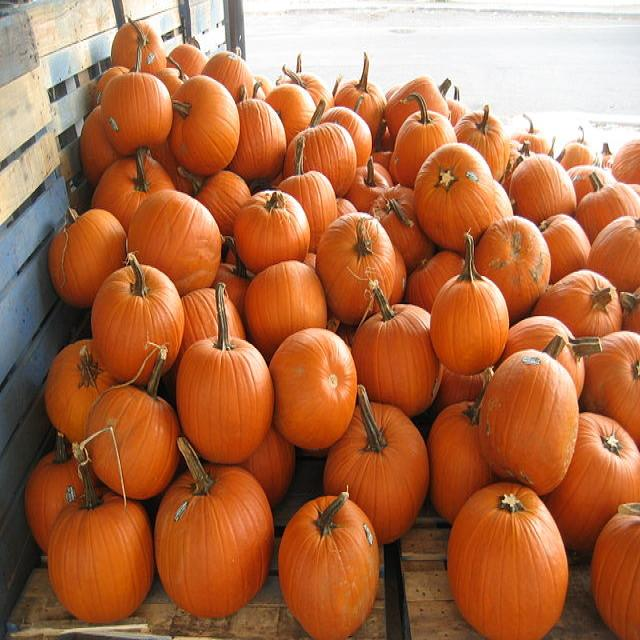pumpkin: (155, 437, 274, 617), (48, 443, 154, 623), (449, 482, 568, 638), (176, 283, 274, 463), (324, 385, 429, 543), (479, 335, 579, 494), (84, 345, 179, 499), (279, 492, 379, 638), (544, 413, 640, 551), (91, 253, 184, 384), (351, 282, 441, 416), (430, 233, 509, 375), (269, 328, 358, 449), (415, 143, 512, 252), (429, 367, 496, 522), (129, 190, 221, 296), (316, 212, 395, 324), (415, 143, 492, 252), (244, 260, 326, 361), (475, 215, 551, 322), (501, 317, 599, 396), (49, 208, 126, 308), (169, 75, 240, 176), (45, 340, 115, 442), (25, 432, 84, 552), (91, 148, 175, 232), (284, 100, 356, 197), (581, 332, 640, 448), (279, 135, 338, 251), (591, 503, 640, 638), (234, 190, 310, 272), (390, 93, 456, 186), (101, 72, 172, 155), (532, 272, 622, 337), (370, 185, 435, 272), (230, 85, 285, 180), (178, 168, 251, 236), (509, 153, 576, 224), (576, 172, 640, 242), (240, 427, 295, 508), (335, 52, 386, 138), (384, 77, 451, 139), (455, 105, 510, 180), (588, 217, 640, 292), (321, 95, 372, 166), (405, 250, 462, 311), (540, 215, 591, 282), (80, 105, 121, 186), (176, 288, 218, 364), (215, 237, 254, 318), (265, 83, 316, 142), (111, 20, 166, 74), (202, 52, 252, 102), (432, 365, 485, 412), (346, 158, 389, 212), (151, 140, 192, 194), (282, 66, 334, 108), (215, 262, 251, 319), (568, 165, 615, 202), (556, 127, 595, 169), (511, 113, 549, 153), (500, 142, 531, 191), (611, 138, 640, 184), (95, 65, 129, 104), (156, 57, 189, 96), (169, 43, 208, 76), (389, 245, 408, 304), (224, 293, 245, 339), (446, 87, 468, 126), (621, 288, 640, 332), (254, 75, 274, 99), (374, 164, 392, 186), (337, 198, 358, 216), (372, 150, 391, 169), (601, 142, 612, 168), (304, 253, 316, 269), (629, 185, 640, 196)
